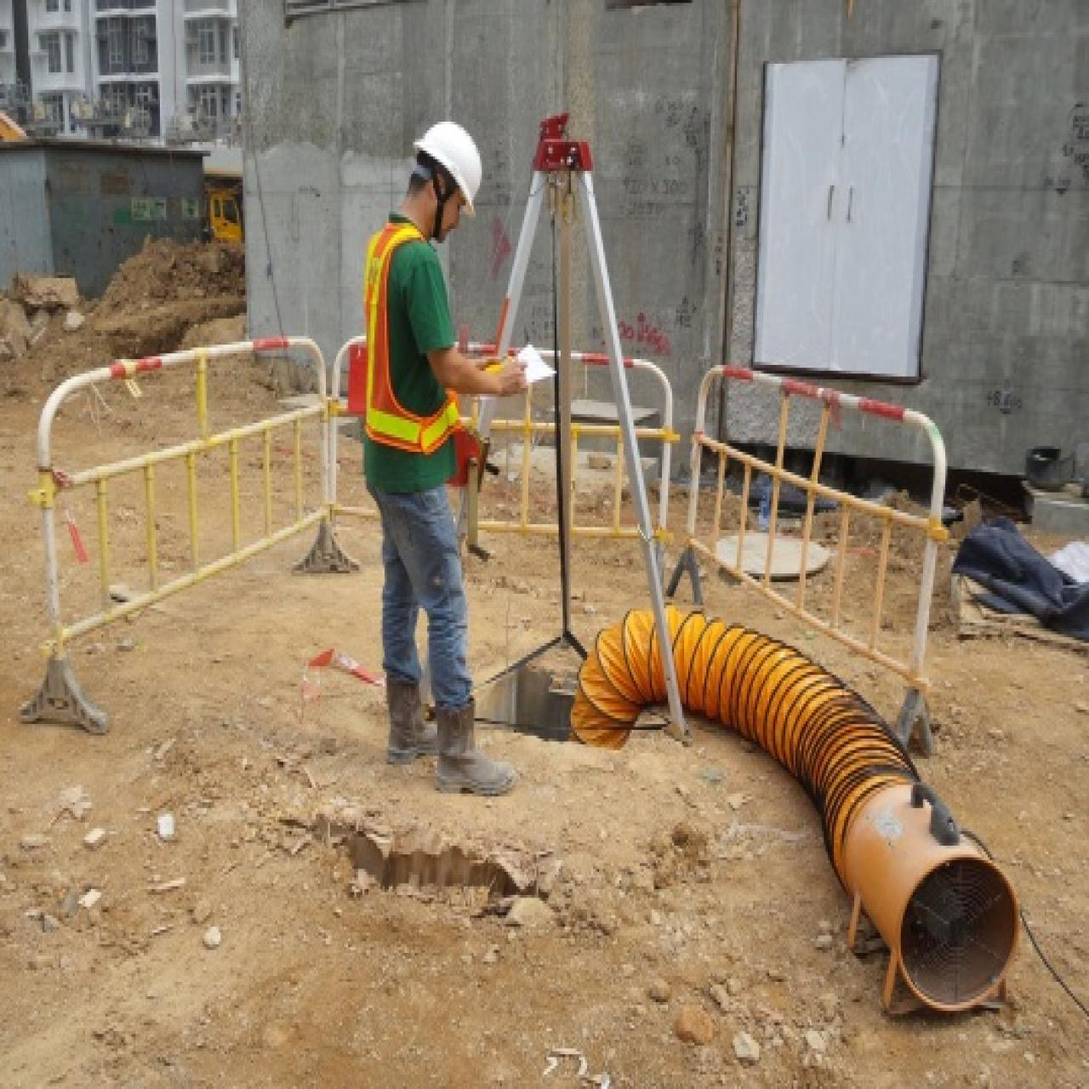Person: (348, 96, 545, 802)
Safety_Vest: (364, 215, 480, 464)
